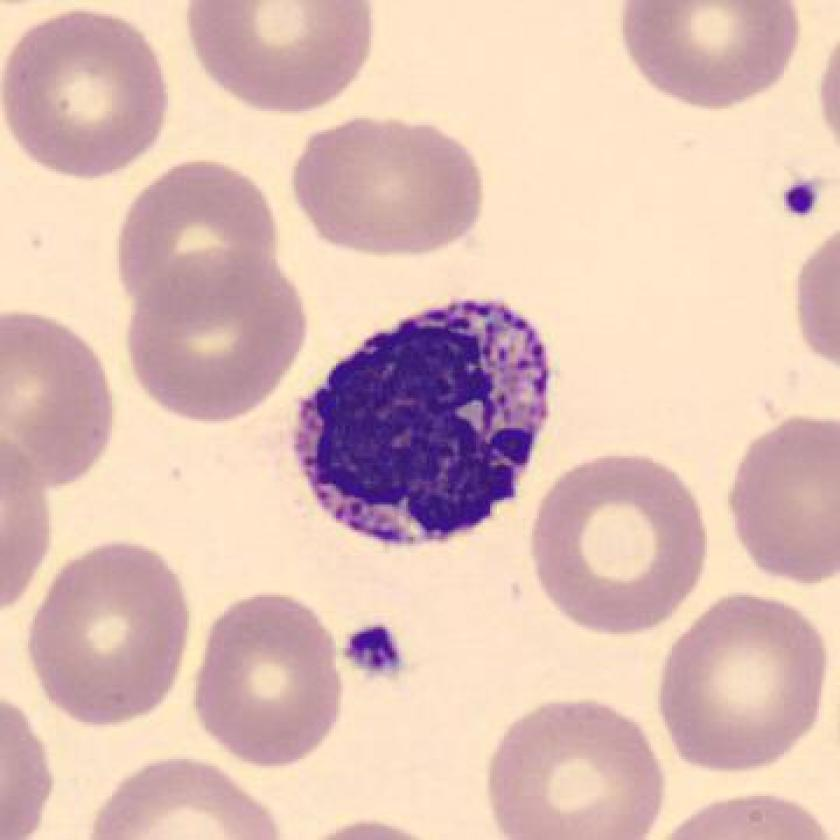basophil: (288, 279, 552, 552)
